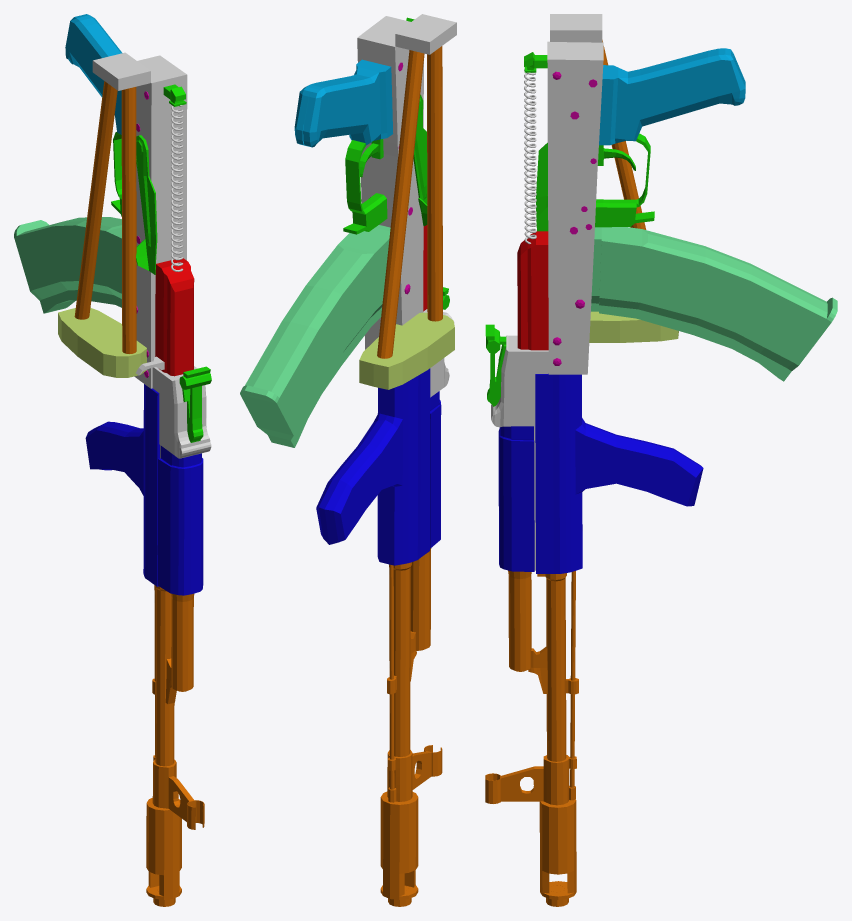
The model's file is AK74_Folded.fbx.
3 views of the same model, side by side, from view 1: azimuth 30°, elevation 25°; view 2: azimuth 150°, elevation 25°; view 3: azimuth 270°, elevation 25° (orthographic). The views are drawn at different scales.
Parts seen in each view (by area): view 1: AK; view 2: AK; view 3: AK.
Boxes of the visible parts, x1,y1,x2,y2 form: AK: (14, 14, 211, 906); AK: (240, 14, 456, 906); AK: (485, 14, 837, 906).
Bounding box in the file's own units: 0.4337 × 4.58 × 1.69.
